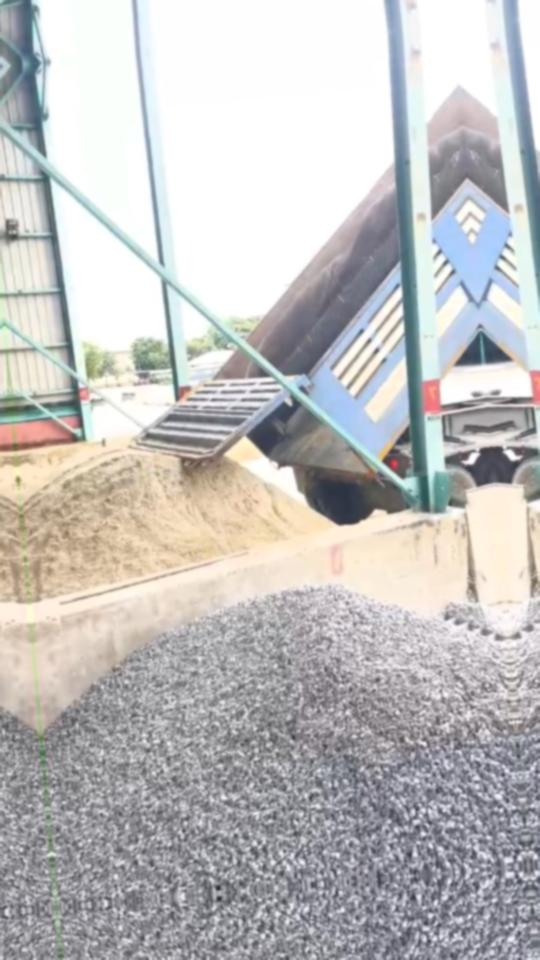gravel: (45, 585, 528, 906), (441, 601, 508, 638)
sand: (23, 448, 330, 600), (18, 436, 128, 498), (227, 439, 257, 461)
